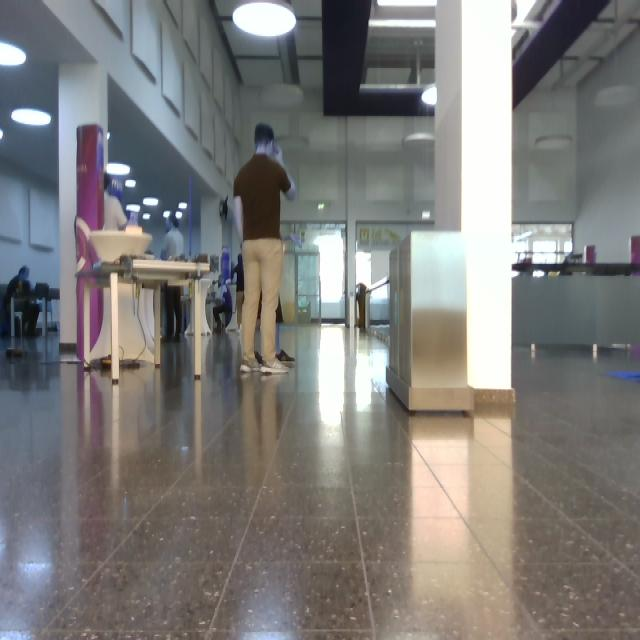door: (281, 222, 346, 321), (297, 249, 320, 324)
light bulb: (233, 1, 296, 37), (12, 109, 51, 126), (1, 42, 26, 66), (422, 84, 437, 105), (107, 164, 130, 176), (144, 197, 159, 206), (175, 209, 183, 220), (125, 180, 135, 188), (179, 202, 187, 210), (165, 210, 171, 218), (1, 129, 4, 140)
person: (234, 124, 295, 374), (3, 266, 40, 337), (164, 286, 183, 341), (162, 217, 183, 260)
pillar: (436, 1, 513, 389), (60, 65, 108, 349)
table: (77, 218, 210, 384)
tiled floor: (1, 329, 640, 640)
trash bin: (389, 232, 470, 409)
